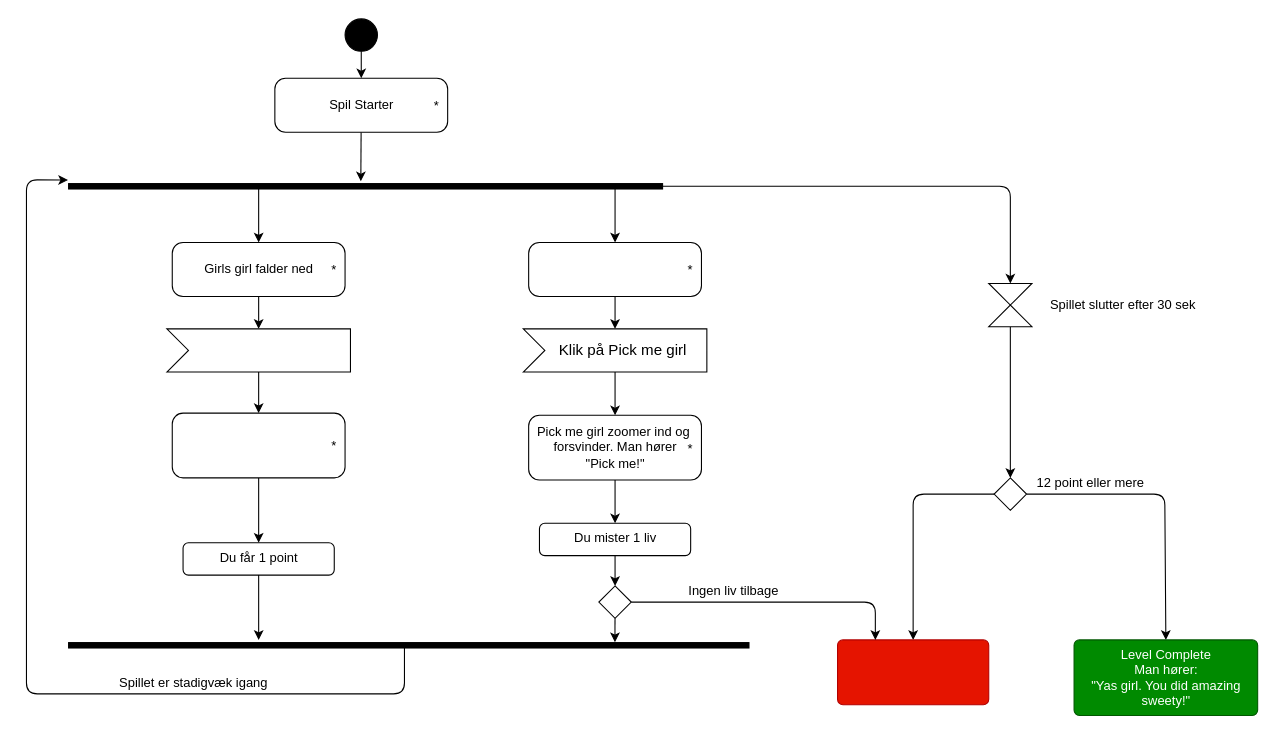
Image size: 1277x734. Some labels were removed from this diagram. The centre of each missing label's shape, as x and y in pixels:
Game over Man hører: "I'm not like most girls": point (912, 672)
Girls girl zoomer ud og forsvinder. Man hører "Wuhuu" eller "Yas girl": point (258, 445)
Klik på Girls Girl: point (258, 350)
Pick me girl falder ned: point (614, 268)
